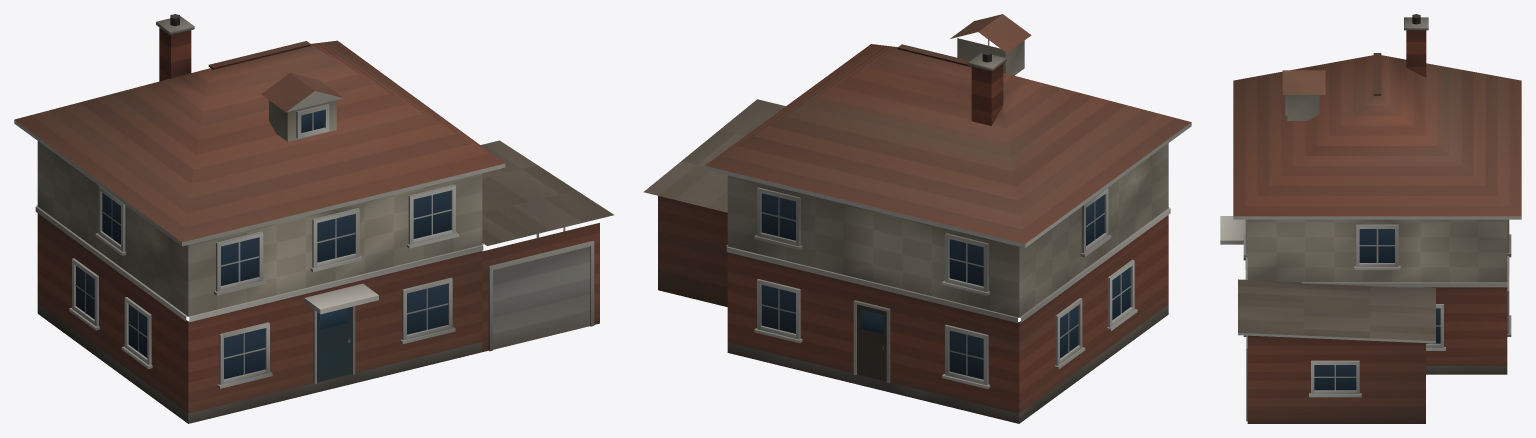
Rendered from house_b.glb.
3 views of the same model, side by side, from view 1: azimuth 30°, elevation 25°; view 2: azimuth 150°, elevation 25°; view 3: azimuth 270°, elevation 25° (orthographic). The views are drawn at different scales.
Parts seen in each view (by area): view 1: HouseB; view 2: HouseB; view 3: HouseB.
Boxes of the visible parts, x1,y1,x2,y2 form: HouseB: (14, 14, 613, 423); HouseB: (643, 14, 1191, 423); HouseB: (1220, 14, 1521, 423).
Size of the model in its own units: 13.33 by 9.22 by 9.3.
